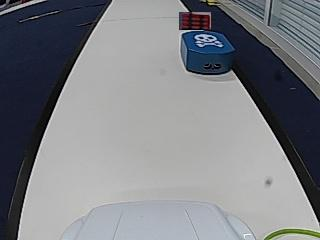danger: (193, 33, 224, 48)
